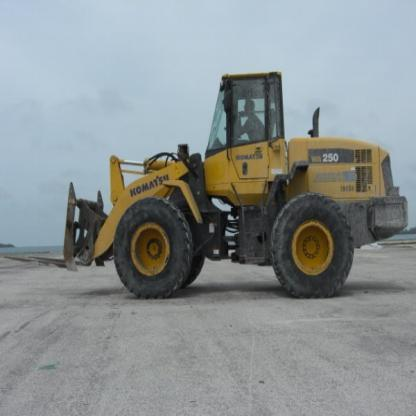bull_dozer/loader/grader: (60, 58, 412, 321)
